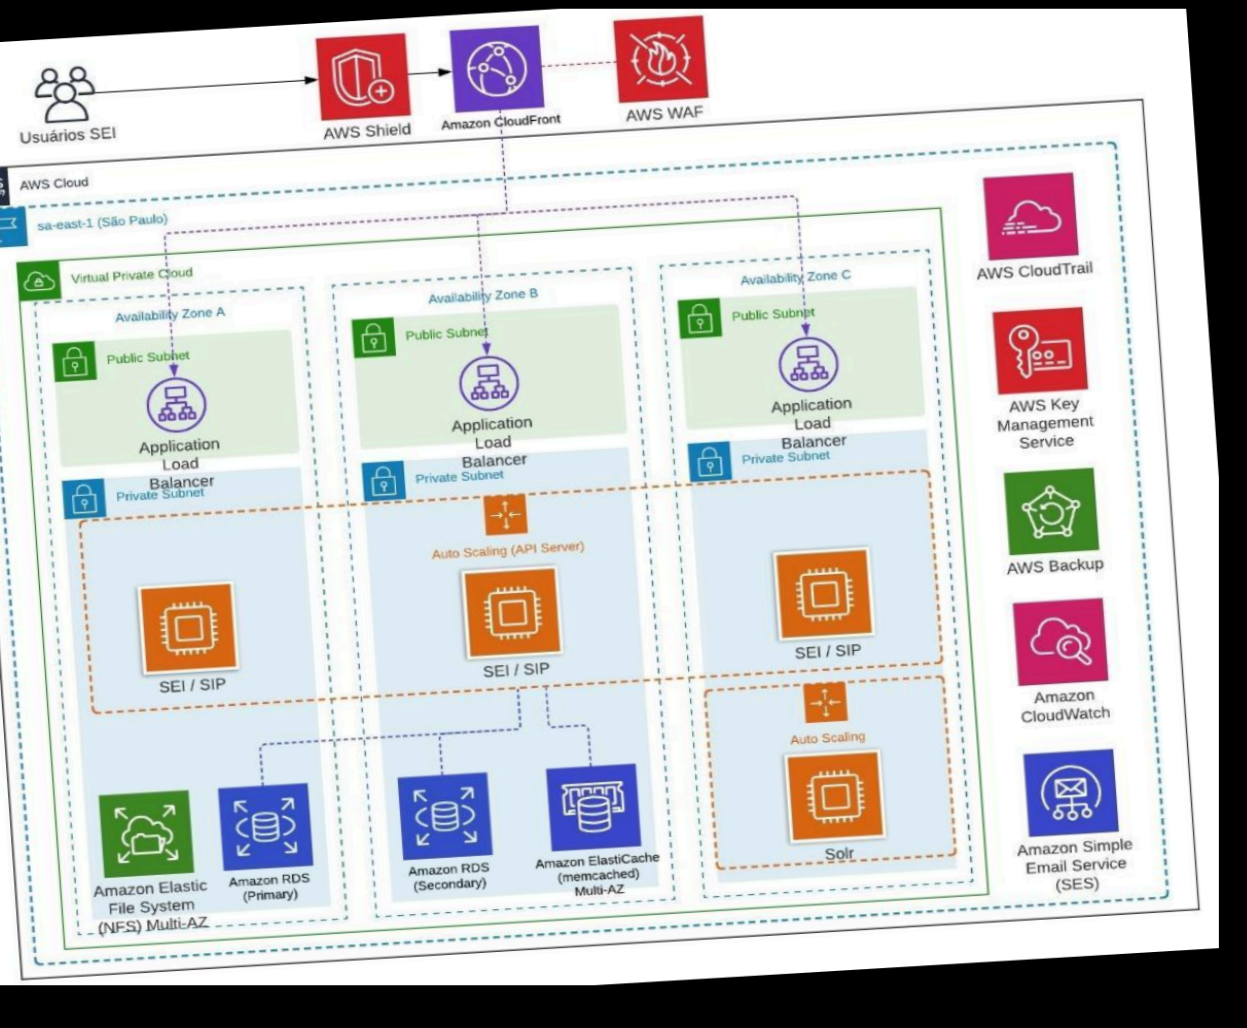aws_application_load_balancer: (139, 373, 210, 434), (771, 332, 842, 393), (451, 352, 522, 412)
aws_autoscaling: (483, 493, 525, 534), (803, 681, 846, 721)
aws_backup: (1004, 466, 1097, 554)
aws_cloud: (0, 165, 9, 204)
aws_cloud_trail: (983, 170, 1076, 258)
aws_cloudfront: (446, 23, 543, 113)
aws_cloudwatch: (1013, 600, 1105, 685)
aws_elactic_file_system(nfs)_multi-az: (99, 789, 192, 878)
aws_elasticache: (543, 765, 640, 852)
aws_key_management_service: (990, 306, 1087, 395)
aws_private_subnet: (686, 440, 730, 484), (363, 458, 405, 500), (61, 477, 105, 517)
aws_public_subnet: (312, 29, 410, 122), (49, 339, 96, 382), (350, 315, 395, 358), (677, 297, 719, 337)
aws_rds: (398, 772, 491, 856), (220, 783, 312, 867)
aws_region: (0, 205, 28, 247)
aws_simple_email_service: (1022, 748, 1118, 838)
aws_virtual_private_cloud: (16, 260, 62, 301)
aws_waf: (606, 10, 711, 105)
sei/sip: (137, 580, 237, 673), (772, 545, 871, 638), (460, 564, 559, 656)
solr: (786, 748, 880, 836)
user: (23, 59, 103, 125)
